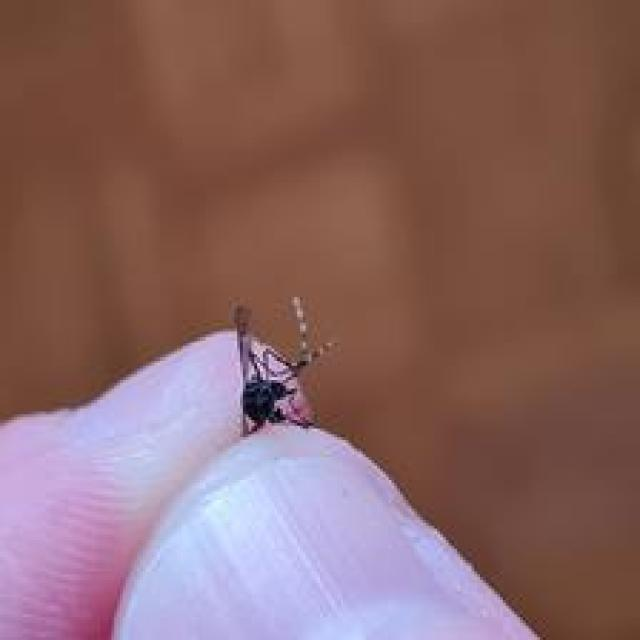Aedes albopictus: (229, 294, 340, 437)
